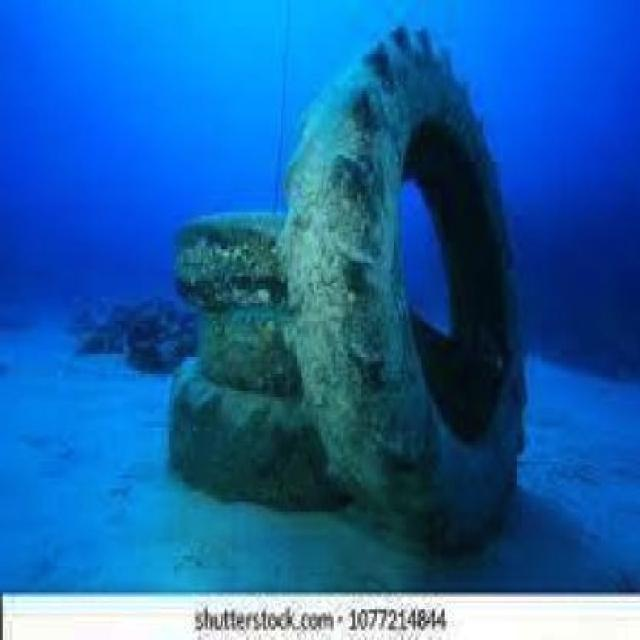tire: (269, 13, 536, 573), (158, 367, 350, 508), (162, 189, 326, 323), (169, 300, 331, 388)
